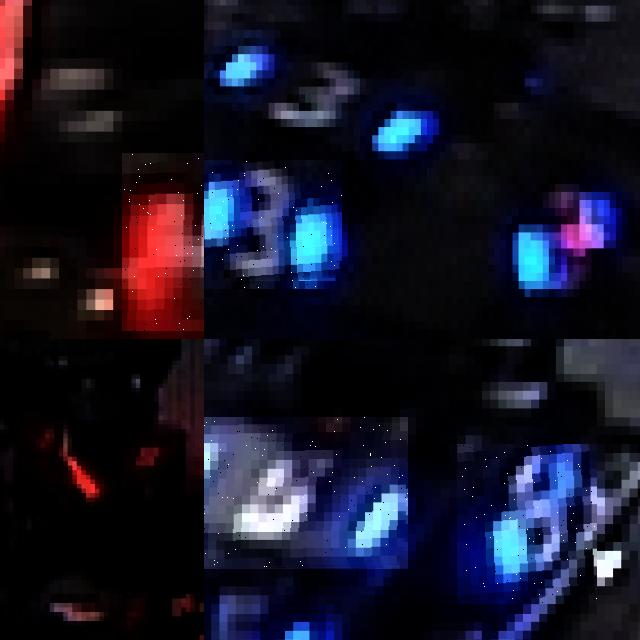B3: (204, 159, 341, 289)
B5: (204, 417, 408, 568), (457, 444, 597, 604), (204, 586, 325, 640)
R4: (122, 152, 204, 331)
